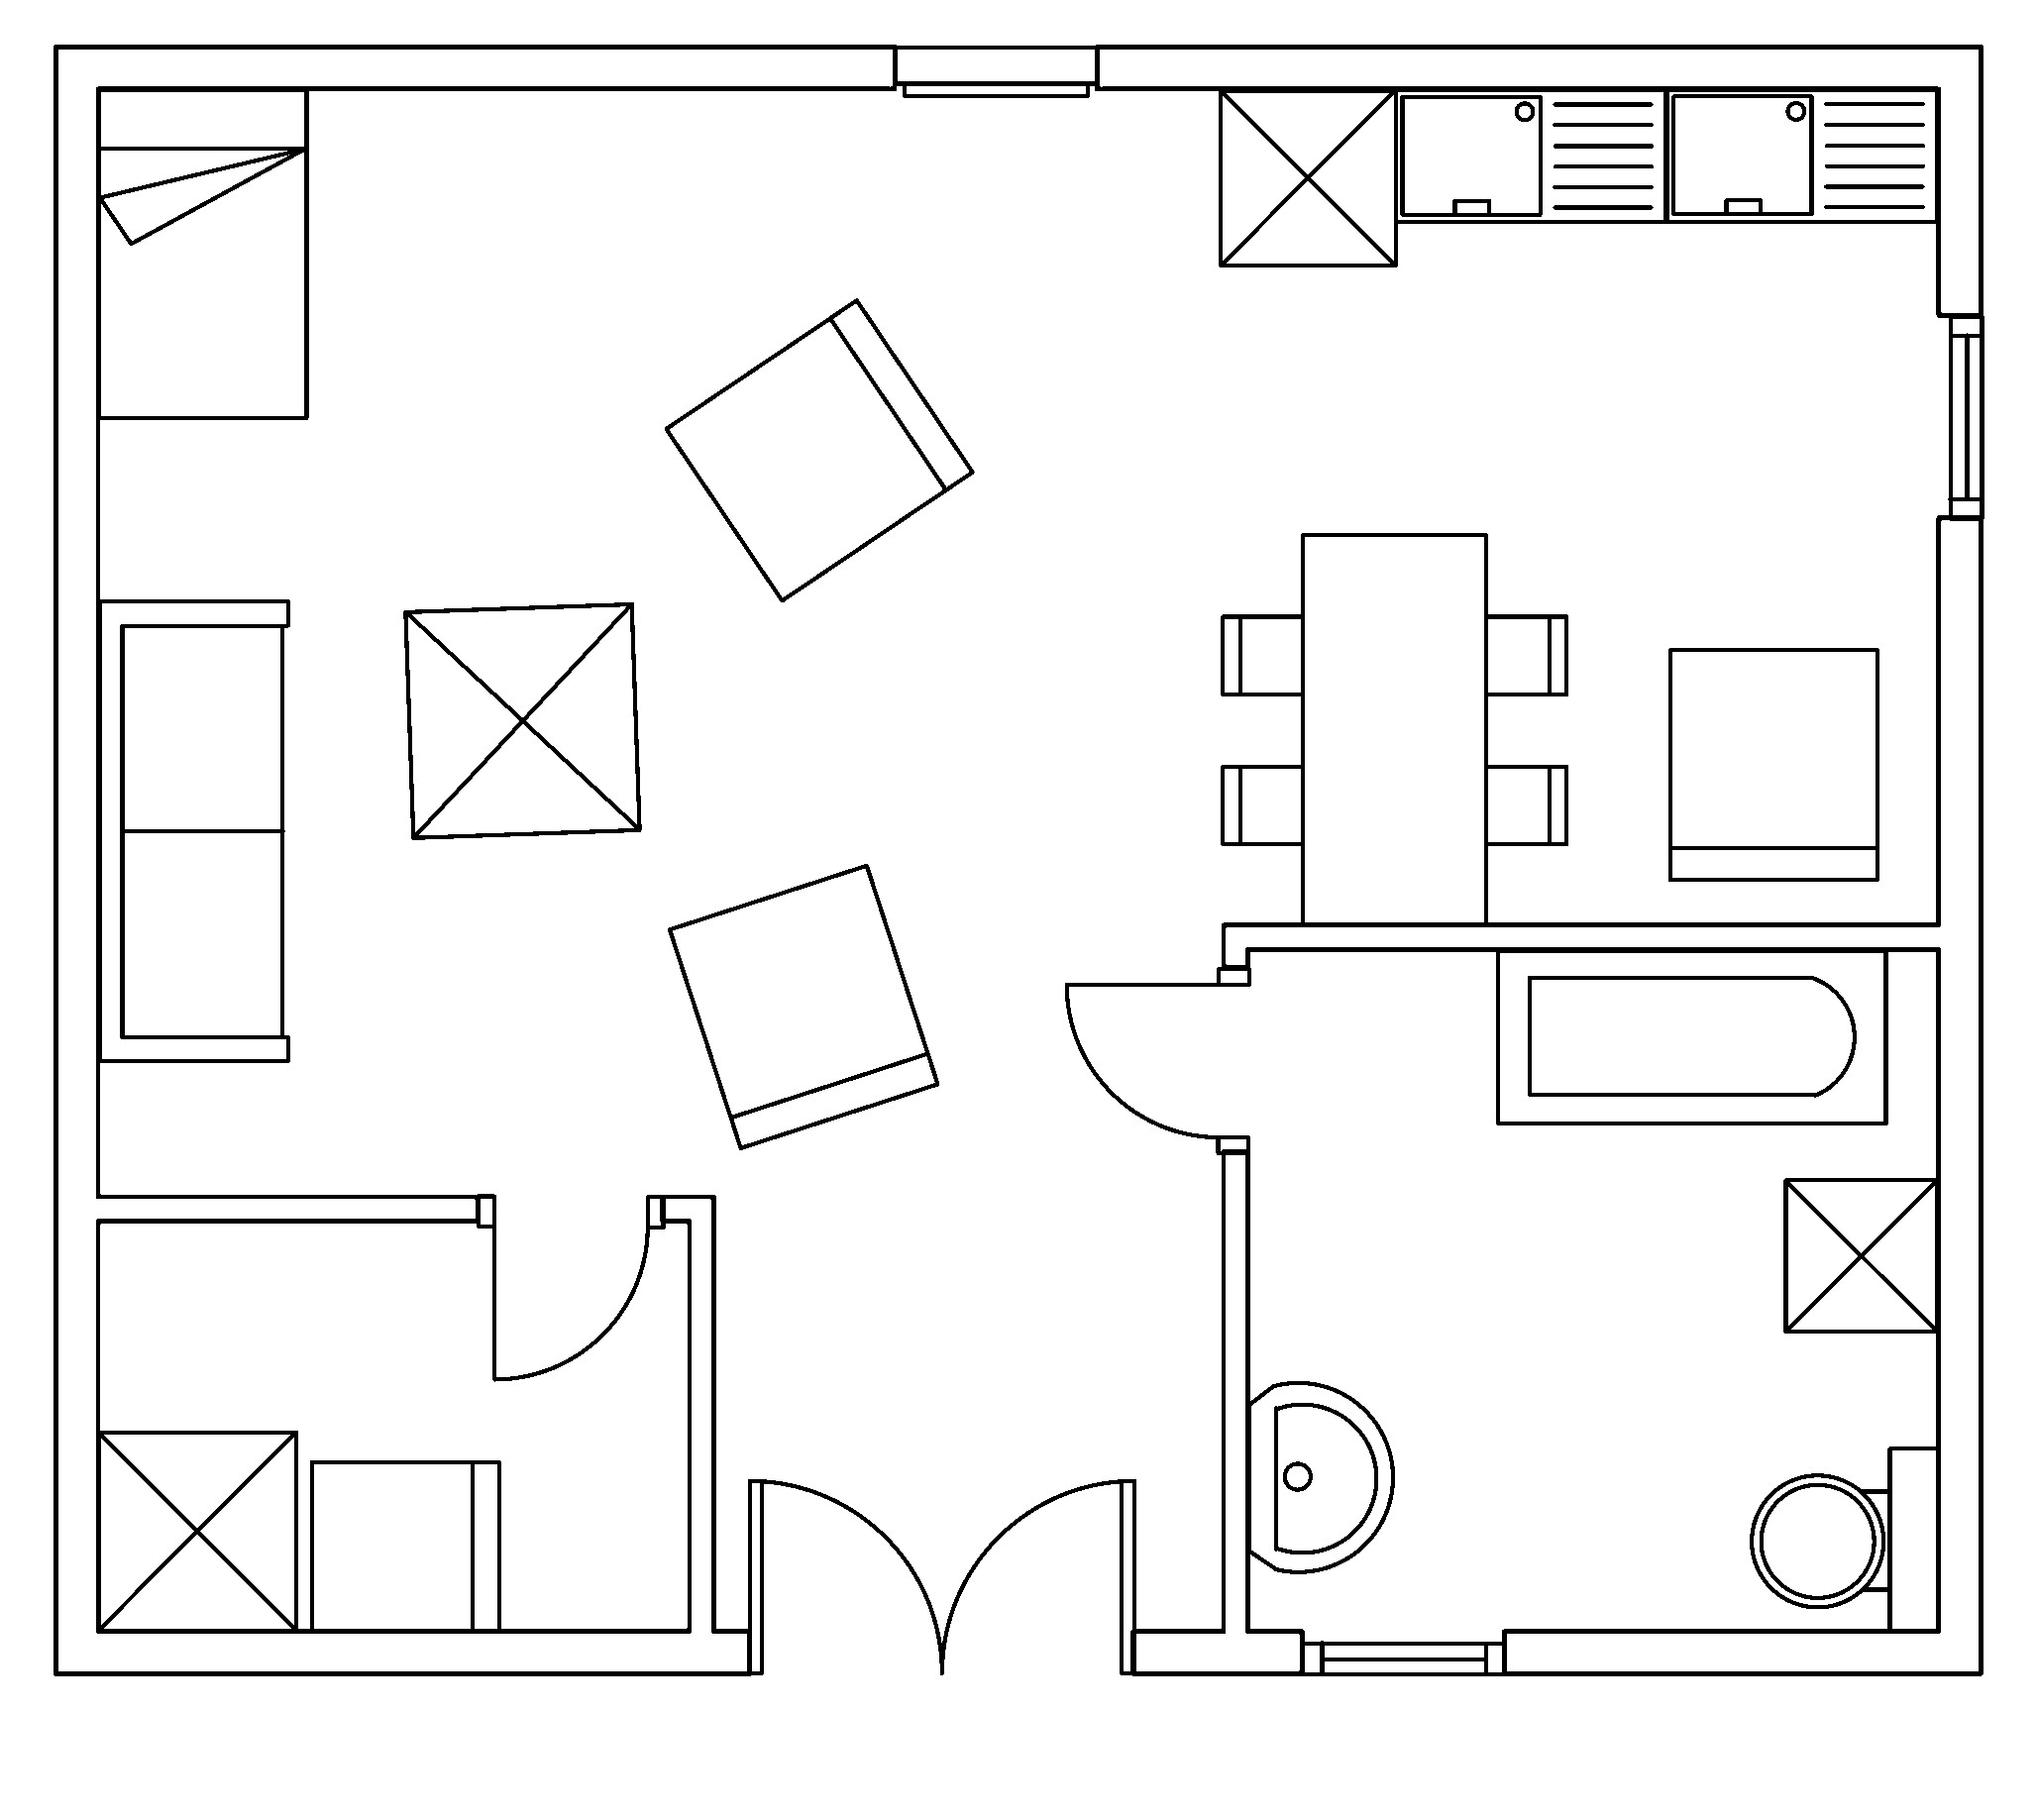bed: (95, 86, 309, 420)
coffee_table: (402, 599, 643, 840), (95, 1428, 299, 1632), (1217, 86, 1398, 267), (1781, 1175, 1940, 1333)
dining_table: (1219, 531, 1568, 926)
large_sink: (1749, 1444, 1940, 1632)
large_sofa: (97, 597, 290, 1063)
sink: (1663, 86, 1940, 223), (1393, 86, 1668, 223)
small_sink: (1245, 1381, 1394, 1572)
small_sofa: (662, 297, 975, 603), (666, 863, 939, 1151), (1666, 646, 1879, 882), (307, 1458, 500, 1632)
tub: (1494, 947, 1888, 1126)
